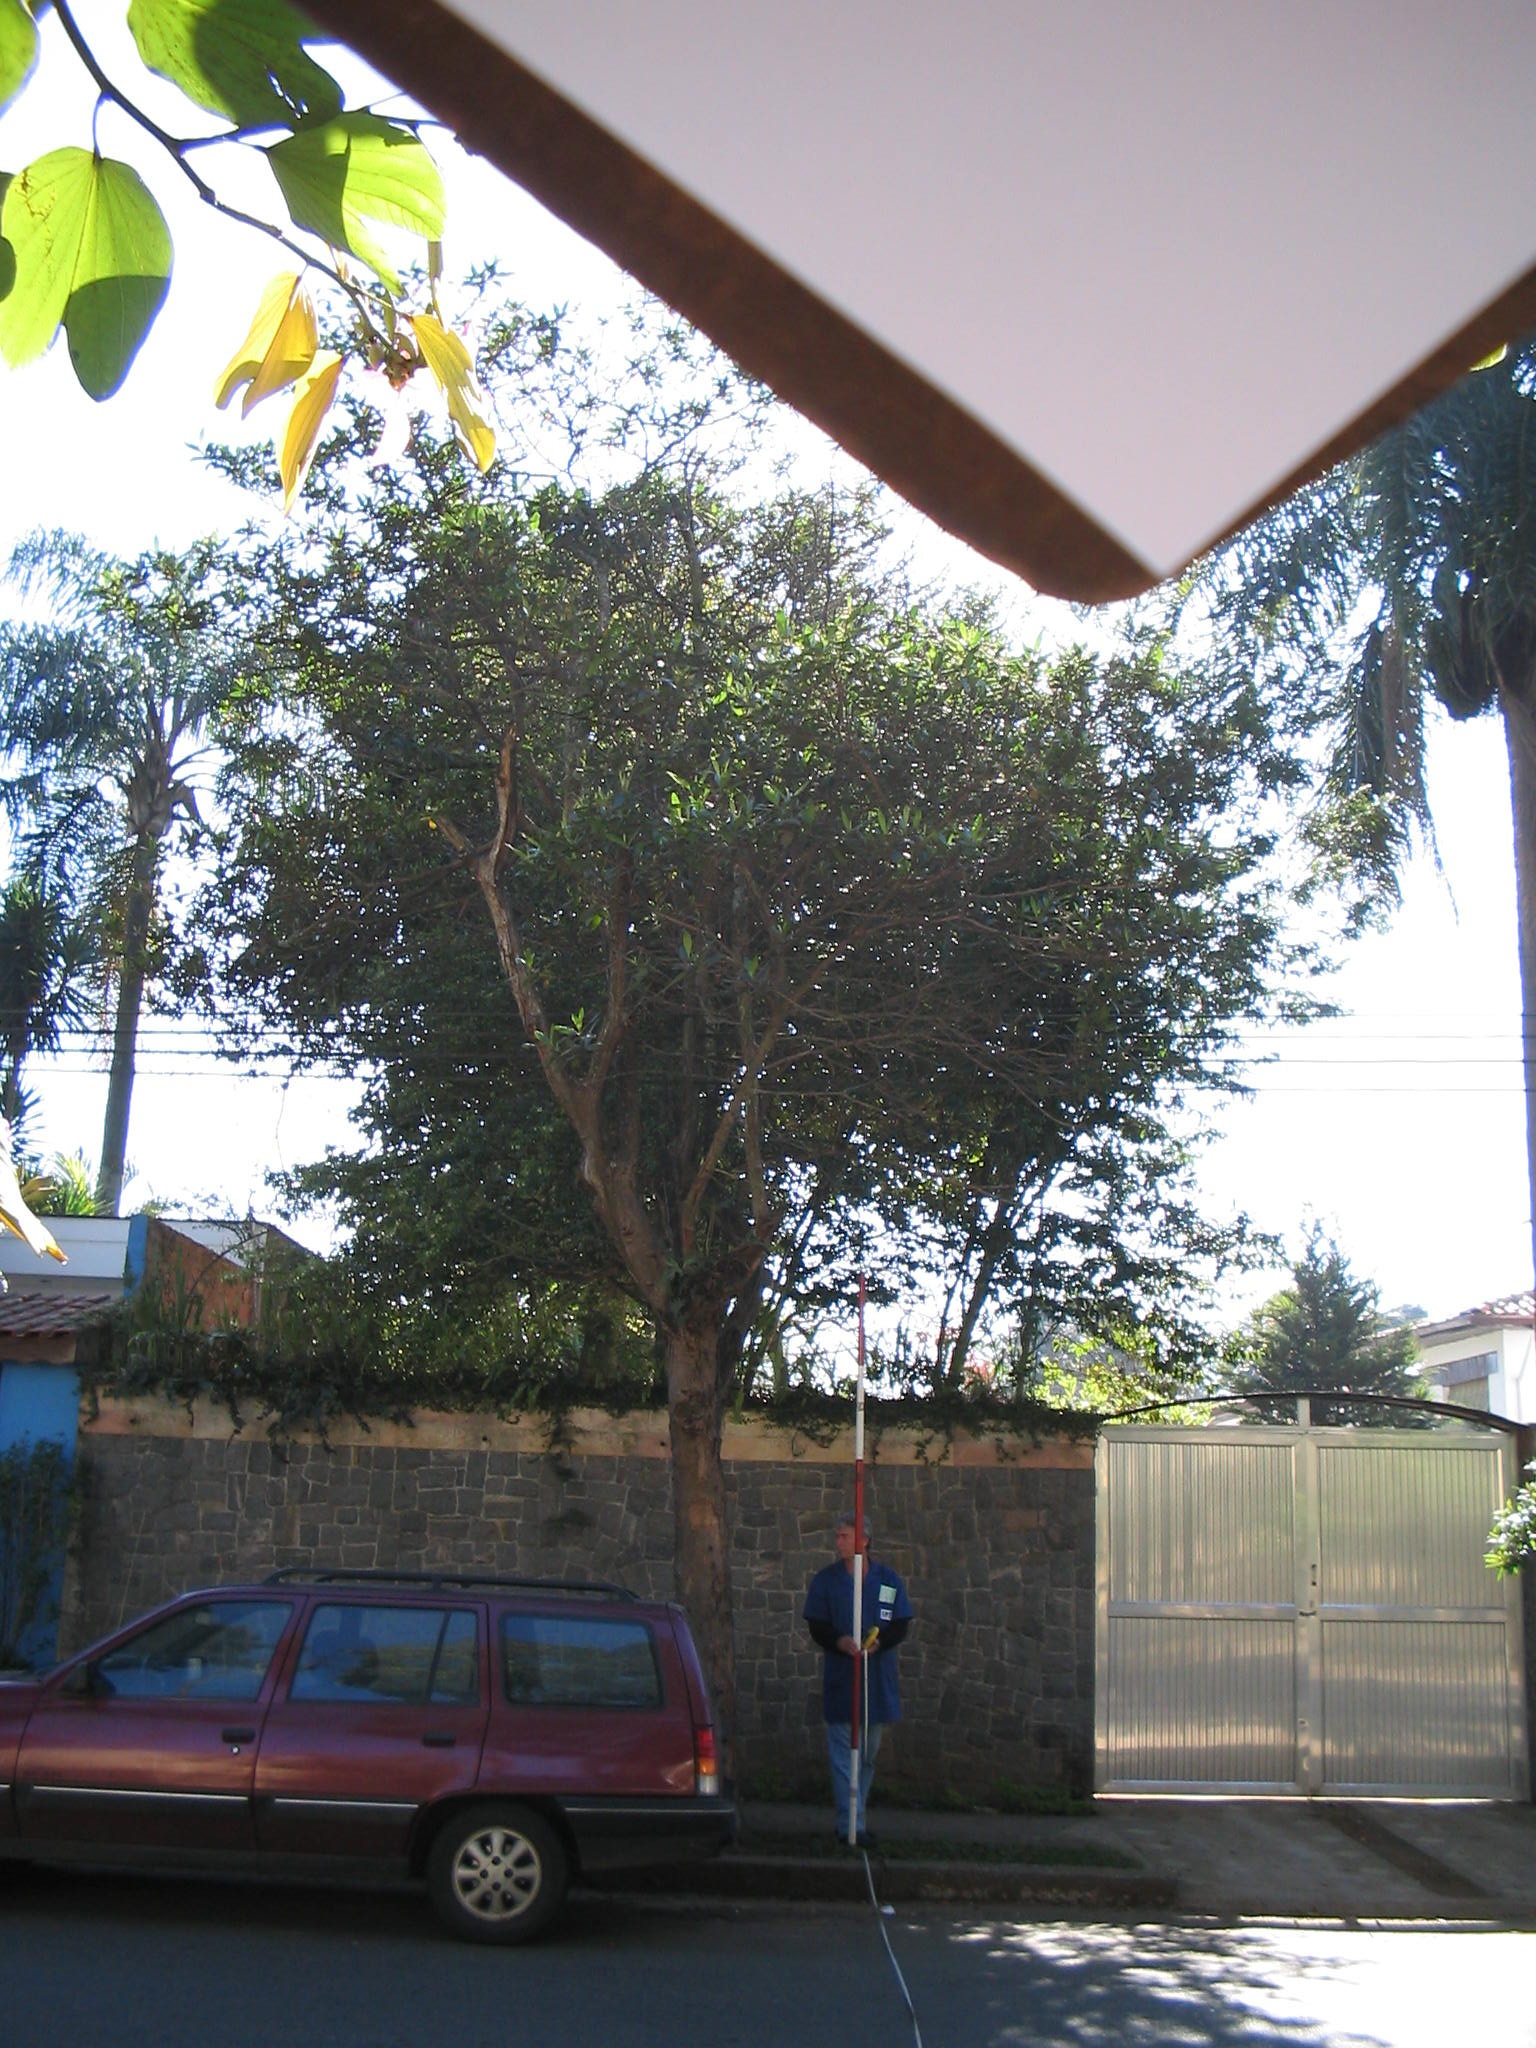crown: (98, 455, 1399, 1295)
stem: (623, 1326, 762, 1846)
stick: (829, 1268, 883, 1851)
tree: (90, 453, 1407, 1850)
